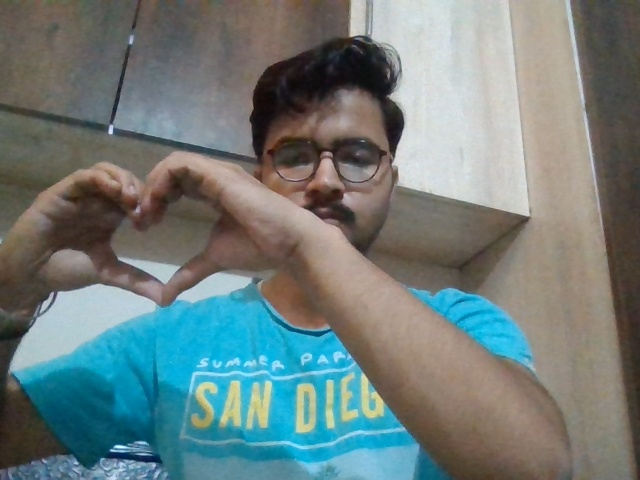iloveyou: (15, 158, 304, 311)
